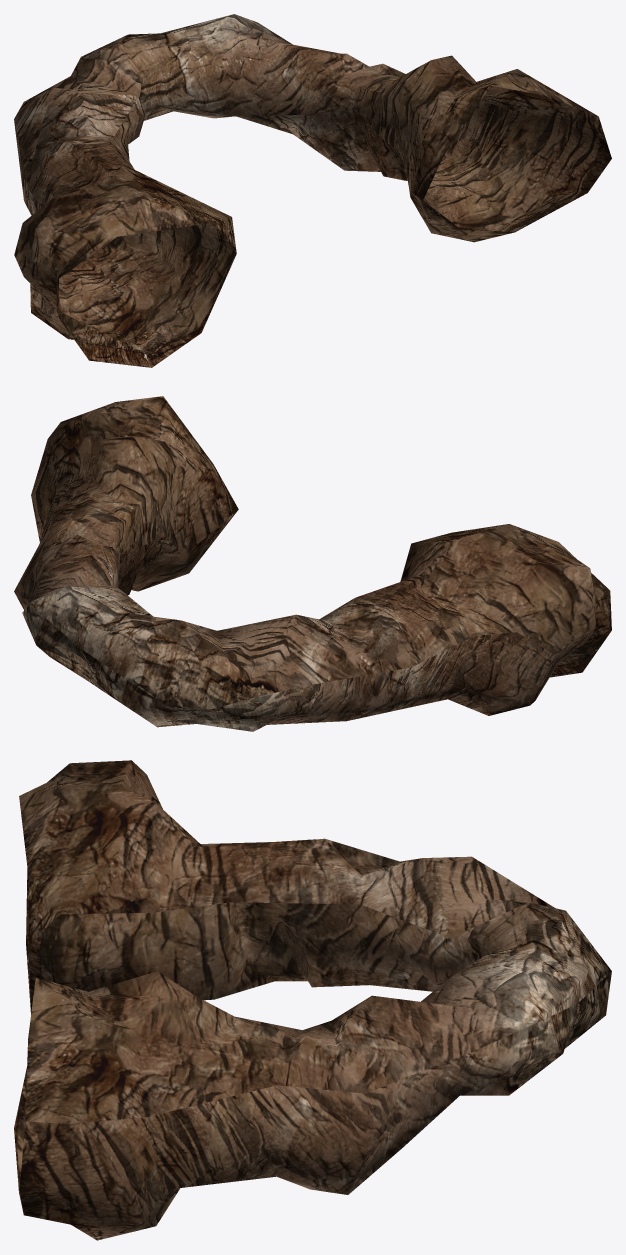
The model's file is MEP_DesertCliff_04.fbx.
The picture shows the model from 3 angles, top to bottom: view 1: azimuth 30°, elevation 25°; view 2: azimuth 150°, elevation 25°; view 3: azimuth 270°, elevation 25°; orthographic projection. The views are drawn at different scales.
Parts seen in each view (by area): view 1: MEP_Desert_Cliff_04; view 2: MEP_Desert_Cliff_04; view 3: MEP_Desert_Cliff_04.
Boxes of the visible parts, x1,y1,x2,y2 form: MEP_Desert_Cliff_04: (14,14,611,367); MEP_Desert_Cliff_04: (14,396,611,731); MEP_Desert_Cliff_04: (14,760,611,1240).
Bounding box in the file's own units: 27.34 × 9.24 × 18.29.
